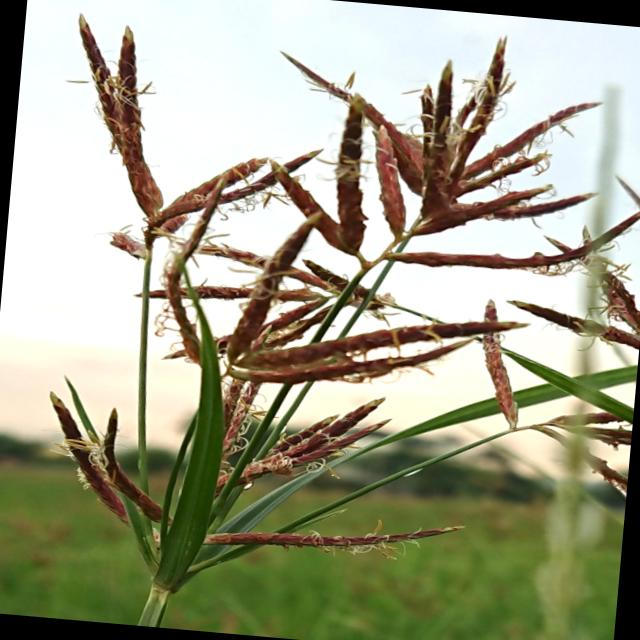cyperus: (12, 0, 640, 605)
